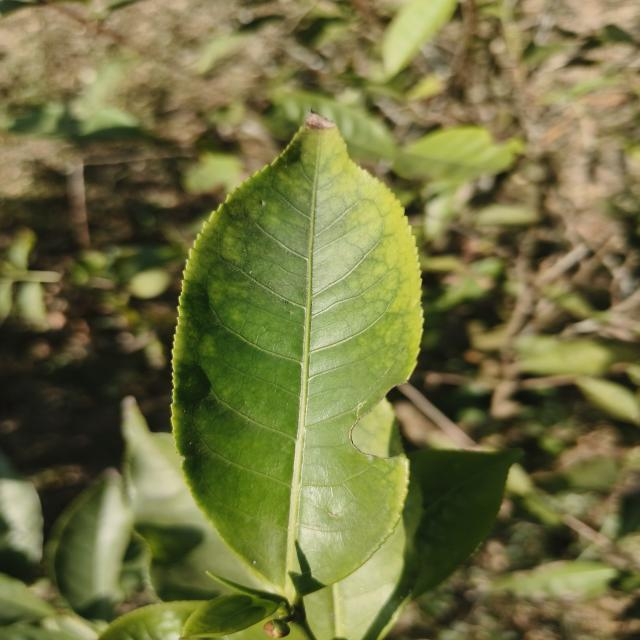Leaf: (172, 124, 422, 600), (121, 396, 266, 602), (409, 450, 521, 592), (47, 469, 133, 619), (263, 91, 398, 161), (392, 126, 516, 181), (382, 0, 457, 78), (0, 451, 43, 582), (9, 103, 153, 142), (491, 561, 618, 599), (182, 594, 279, 640), (0, 573, 55, 625)
